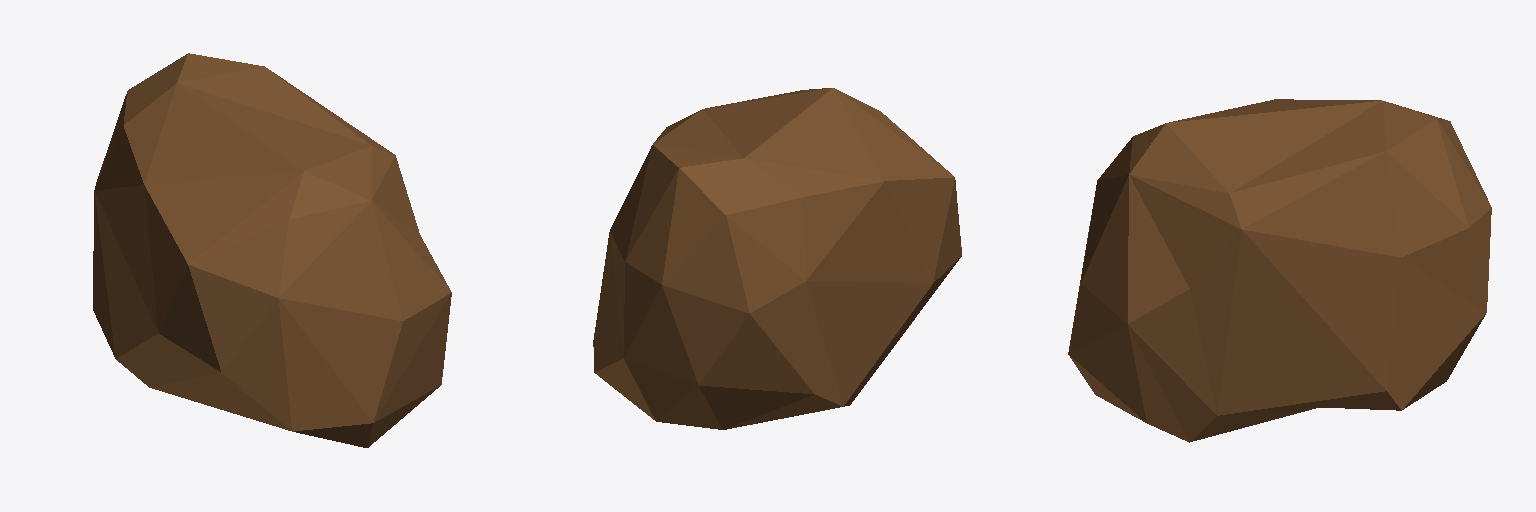
The model's file is Stone03.obj.
3 renders of one model, left to right at view 1: azimuth 30°, elevation 25°; view 2: azimuth 150°, elevation 25°; view 3: azimuth 270°, elevation 25°, orthographic.
Parts seen in each view (by area): view 1: Cube_Cube.001; view 2: Cube_Cube.001; view 3: Cube_Cube.001.
Part boxes in pixels (left/top/right/bottom): Cube_Cube.001: left=93, top=53, right=451, bottom=447; Cube_Cube.001: left=593, top=88, right=961, bottom=429; Cube_Cube.001: left=1068, top=99, right=1491, bottom=442.
Bounding box in the file's own units: 3.48 × 3.62 × 4.87.